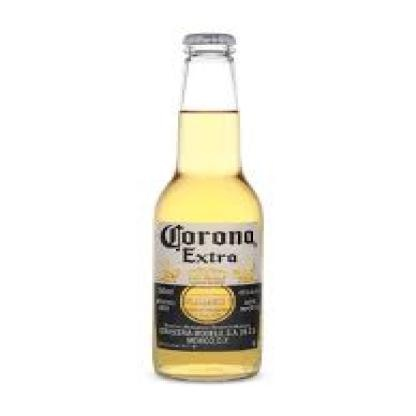trash: (153, 33, 262, 380)
